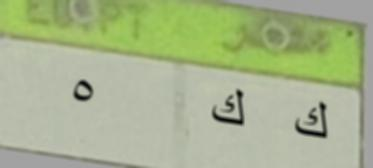5: (70, 72, 96, 107)
kaaf: (290, 93, 336, 150), (204, 82, 252, 132)
